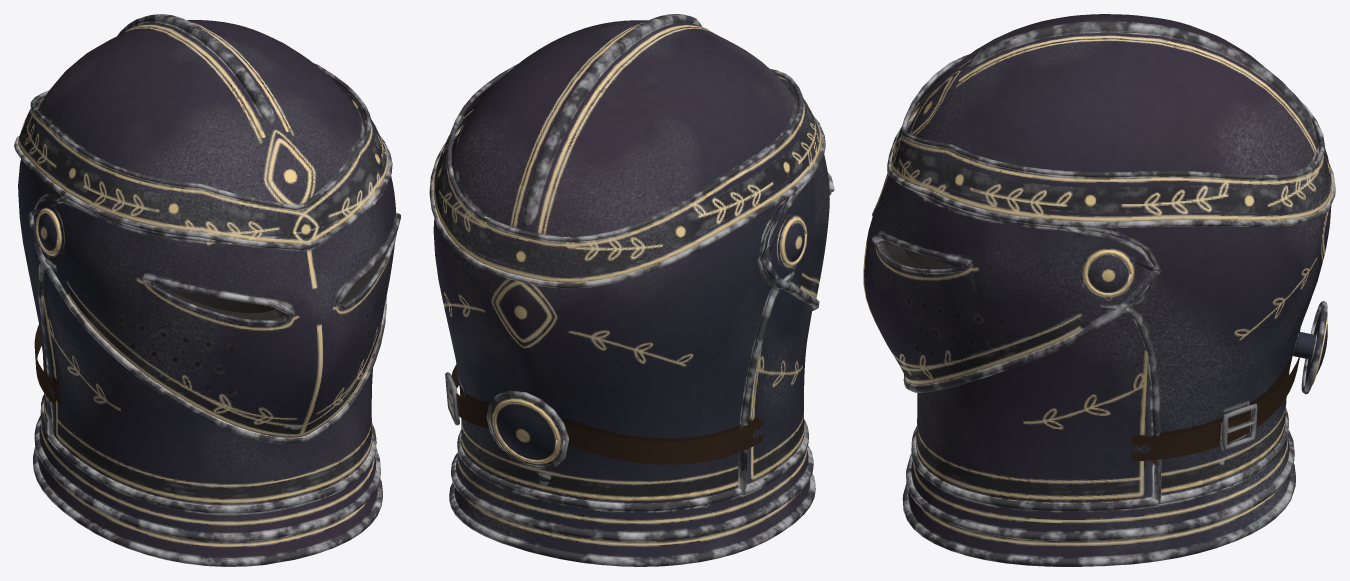
File: SM_ObsidianSovereign_Helmet.fbx
3 renders of one model, left to right at view 1: azimuth 30°, elevation 25°; view 2: azimuth 150°, elevation 25°; view 3: azimuth 270°, elevation 25°, orthographic. The views are drawn at different scales.
Parts seen in each view (by area): view 1: SM_ObsidianSovereign_Helmet; view 2: SM_ObsidianSovereign_Helmet; view 3: SM_ObsidianSovereign_Helmet.
Boxes of the visible parts, x1,y1,x2,y2 form: SM_ObsidianSovereign_Helmet: (14,14,400,566); SM_ObsidianSovereign_Helmet: (429,14,834,566); SM_ObsidianSovereign_Helmet: (863,14,1335,566).
Size of the model in its own units: 25.07 by 29.89 by 33.66.
